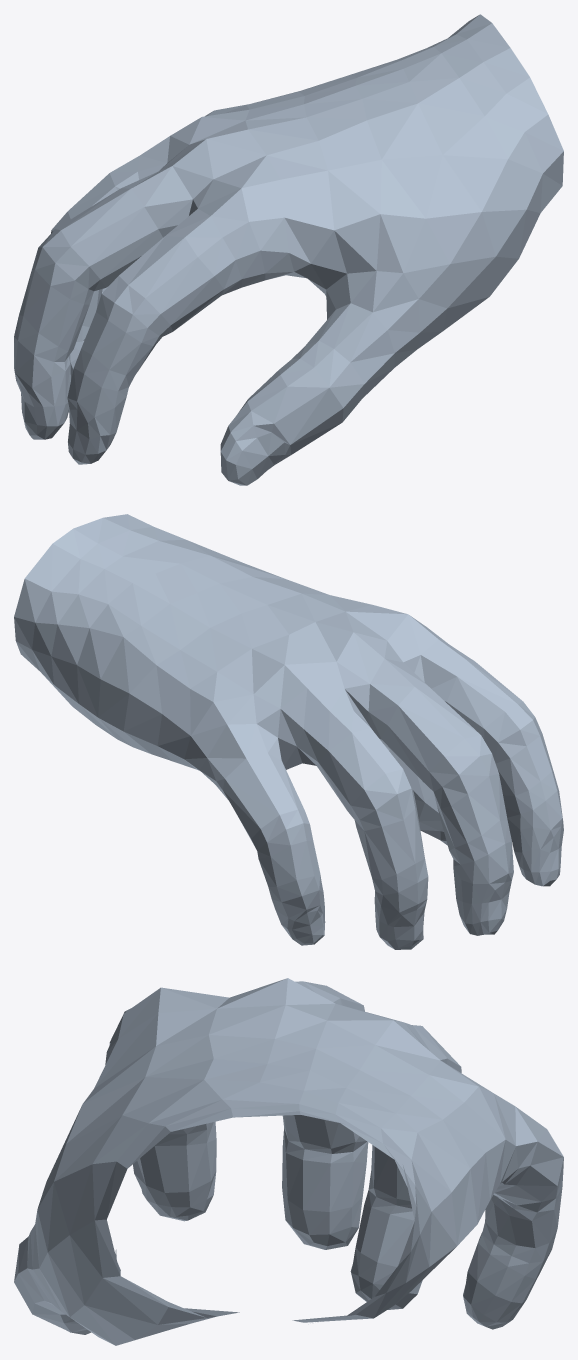
File: right_hand_mean_pose.glb
3 views of the same model, one above another, from view 1: azimuth 30°, elevation 25°; view 2: azimuth 150°, elevation 25°; view 3: azimuth 270°, elevation 25° (orthographic). The views are drawn at different scales.
Parts seen in each view (by area): view 1: world; view 2: world; view 3: world.
Boxes of the visible parts, <box> form: world: <box>14,14,563,485</box>; world: <box>14,514,563,949</box>; world: <box>14,978,563,1345</box>.
Bounding box in the file's own units: 0.1544 × 0.097 × 0.1082.
